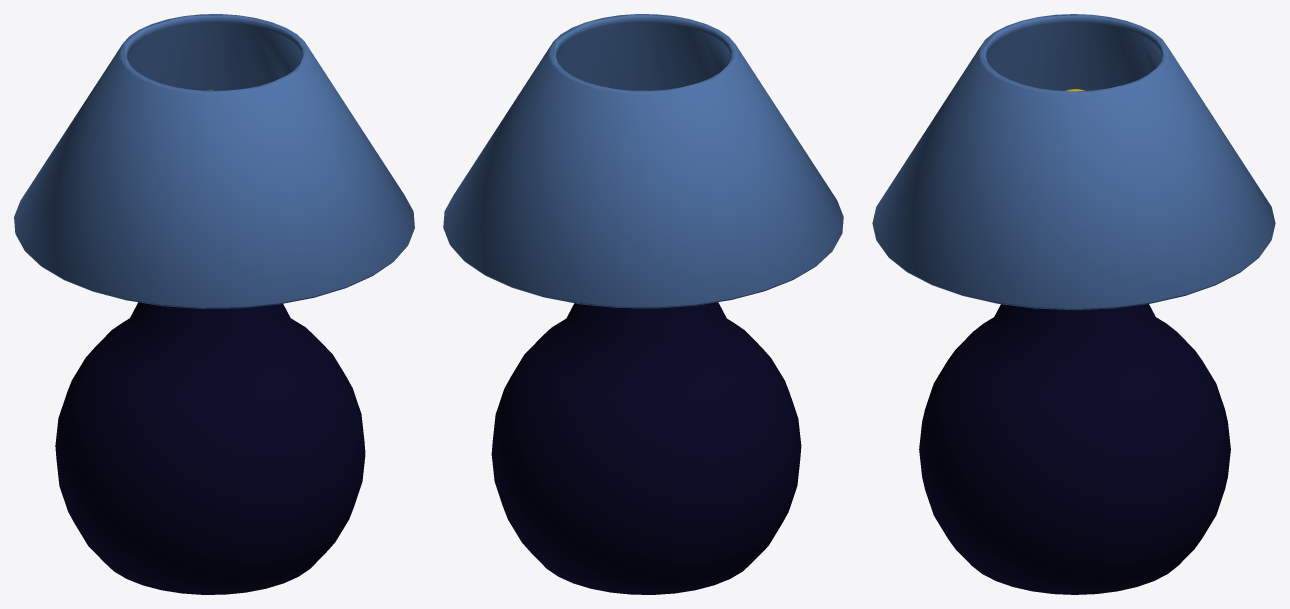
File: lampe.fbx
The picture shows the model from 3 angles, left to right: view 1: azimuth 30°, elevation 25°; view 2: azimuth 150°, elevation 25°; view 3: azimuth 270°, elevation 25°; orthographic projection.
Visible parts, largest first — view 1: Sphere; view 2: Sphere; view 3: Sphere.
Boxes of the visible parts, box(x1,y1,x2,y2) form: Sphere: box(14, 14, 414, 594); Sphere: box(443, 14, 843, 594); Sphere: box(872, 14, 1275, 594).
Size of the model in its own units: 291 by 396 by 291.
